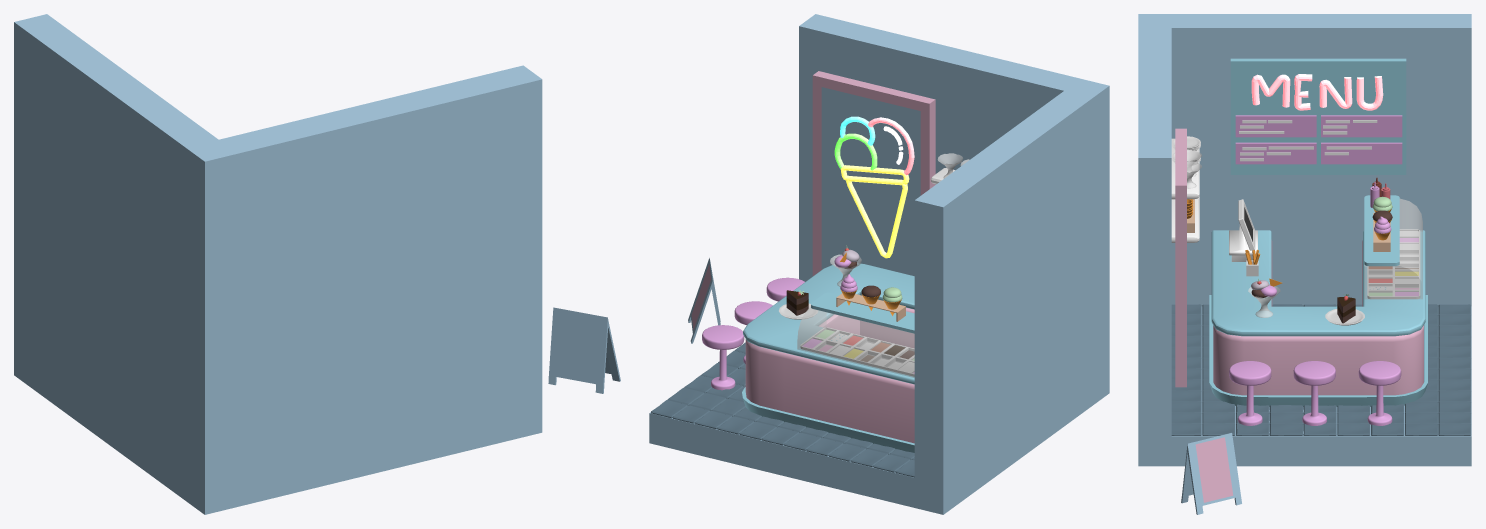
Rendered from low_poly_ice_cream_shop.glb.
3 views of the same model, side by side, from view 1: azimuth 30°, elevation 25°; view 2: azimuth 150°, elevation 25°; view 3: azimuth 270°, elevation 25° (orthographic). The views are drawn at different scales.
Visible parts, largest first — view 1: Cube, Plane.002; view 2: Cube, Plane, Cube.001, Cube.002, Cube.010, Vert, Cube.004, Cube.003, Circle.002, Plane.002, Circle.003, Circle.001 (+3 smaller); view 3: Cube, Plane, Vert.001, Cube.001, Plane.002, Cube.002, Cube.010, Cube.004, Cube.003, Circle.002, Circle.001, Circle (+5 smaller).
Boxes of the visible parts, x1,y1,x2,y2 form: Cube: [14, 14, 542, 514]; Plane.002: [548, 307, 620, 393]; Cube: [649, 14, 1109, 514]; Plane: [742, 263, 914, 452]; Cube.001: [651, 342, 914, 477]; Cube.002: [797, 306, 914, 377]; Cube.010: [812, 71, 935, 275]; Vert: [834, 116, 914, 258]; Cube.004: [800, 327, 914, 376]; Cube.003: [811, 292, 914, 333]; Circle.002: [702, 325, 744, 390]; Plane.002: [688, 258, 720, 343]; Circle.003: [779, 290, 817, 319]; Circle.001: [734, 301, 772, 363]; Cube: [1138, 14, 1471, 466]; Plane: [1209, 230, 1427, 406]; Vert.001: [1230, 58, 1406, 174]; Cube.001: [1171, 304, 1471, 435]; Plane.002: [1181, 433, 1241, 514]; Cube.002: [1364, 198, 1422, 299]; Cube.010: [1175, 128, 1186, 387]; Cube.004: [1367, 229, 1420, 299]; Cube.003: [1364, 195, 1399, 266]; Circle.002: [1358, 361, 1401, 425]; Circle.001: [1293, 361, 1335, 425]; Circle: [1229, 361, 1271, 425].
Bounding box in the file's own units: 6.53 × 4.93 × 4.8.
